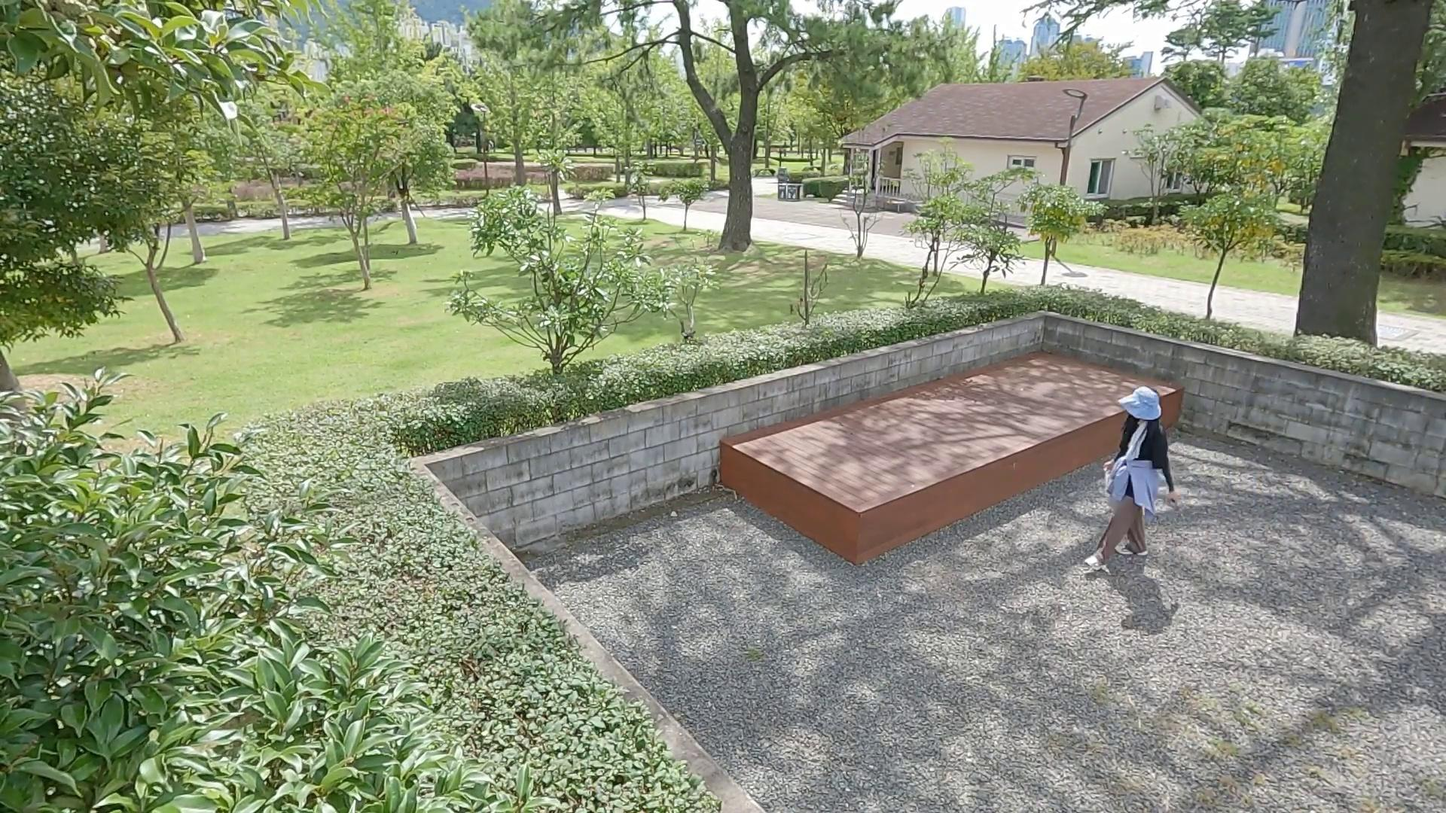person: (1085, 385, 1182, 573)
trash: (1101, 465, 1113, 497), (1161, 497, 1181, 510)
